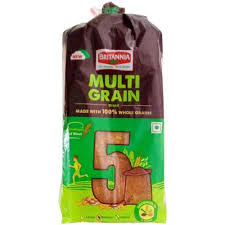bread: (56, 13, 172, 225)
